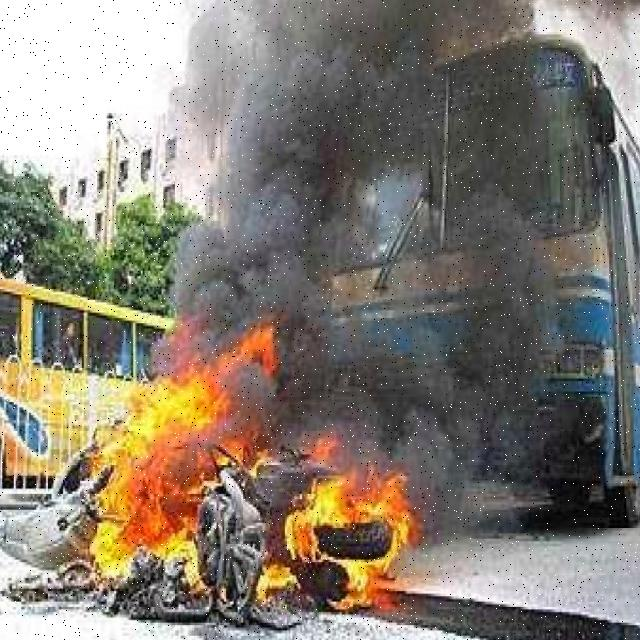fire: (1, 361, 416, 636)
smoke: (175, 0, 536, 444)
